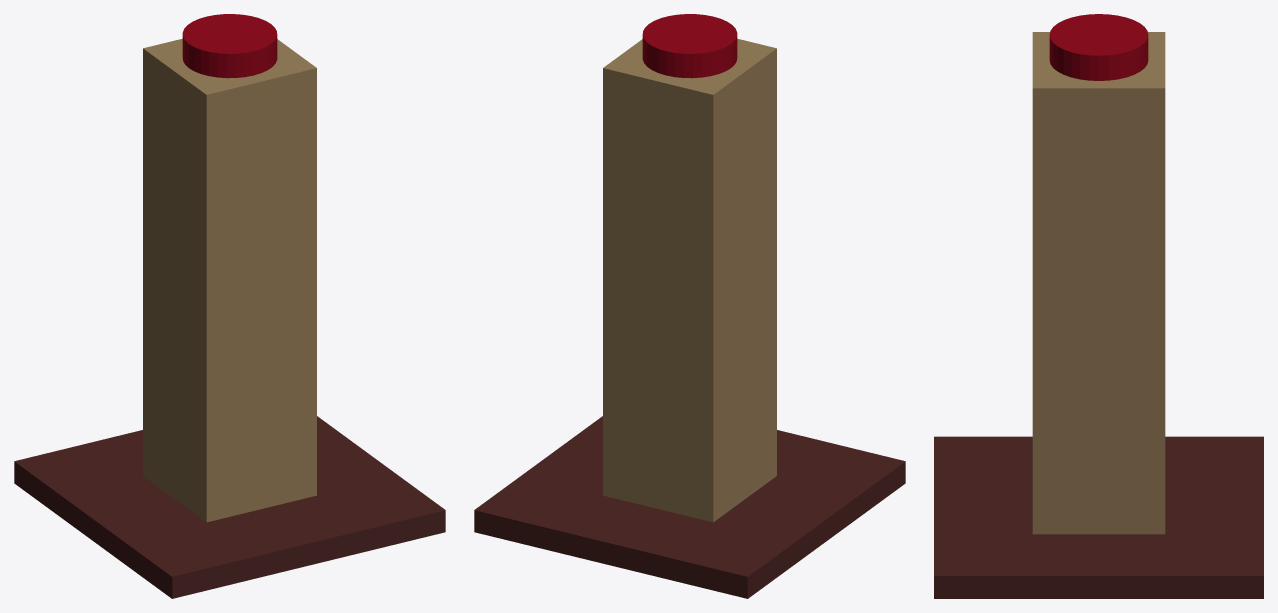
The model's file is stends.fbx.
3 views of the same model, side by side, from view 1: azimuth 30°, elevation 25°; view 2: azimuth 150°, elevation 25°; view 3: azimuth 270°, elevation 25° (orthographic). The views are drawn at different scales.
Visible parts, largest first — view 1: Cube, Cylinder; view 2: Cube, Cylinder; view 3: Cube, Cylinder.
Part boxes in pixels (x1=…): Cube: x1=14, y1=38, x2=445, y2=598; Cylinder: x1=182, y1=14, x2=277, y2=78; Cube: x1=474, y1=38, x2=905, y2=598; Cylinder: x1=642, y1=14, x2=737, y2=78; Cube: x1=934, y1=32, x2=1263, y2=598; Cylinder: x1=1049, y1=14, x2=1148, y2=80.
Size of the model in its own units: 200 by 331 by 200.
